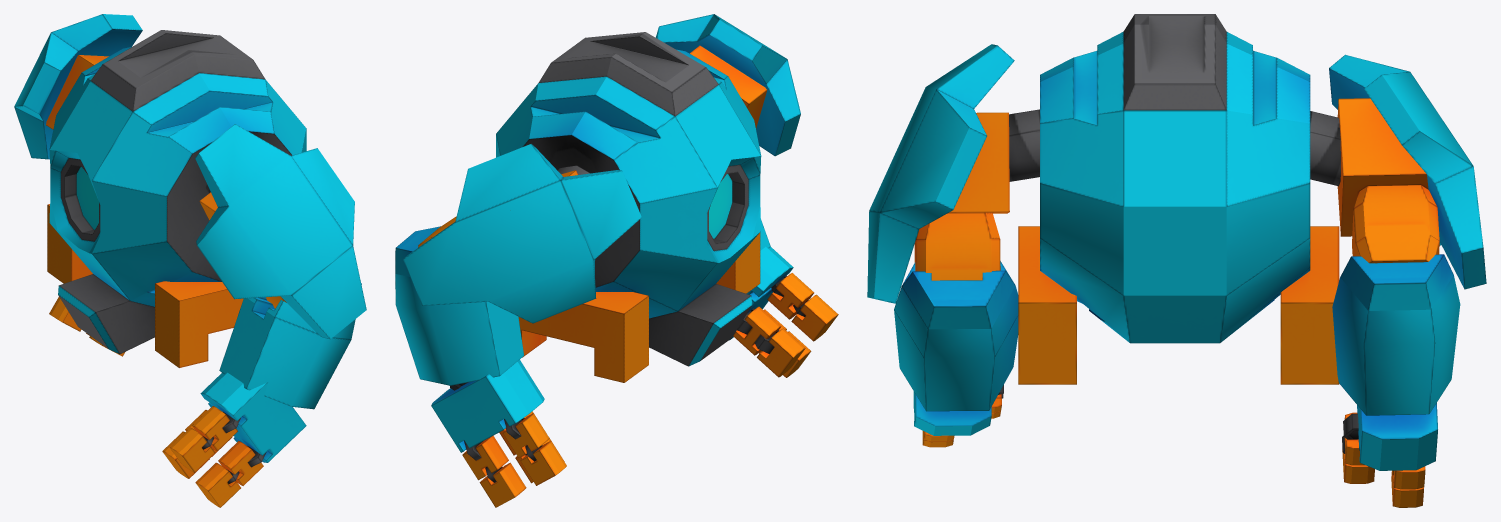
Rendered from Body_Idle1.obj.
3 renders of one model, left to right at view 1: azimuth 30°, elevation 25°; view 2: azimuth 150°, elevation 25°; view 3: azimuth 270°, elevation 25°, orthographic. The views are drawn at different scales.
Visible parts, largest first — view 1: Plane001, Object006, Object008, Object007, Object002, Object004; view 2: Plane001, Object002, Object004, Object003, Object006, Object008; view 3: Plane001, Object006, Object002, Object003, Object007, Object004, Object008, Object001, Object005.
Boxes of the visible parts, x1,y1,x2,y2 form: Plane001: (47, 30, 306, 367); Object006: (195, 124, 366, 339); Object008: (162, 372, 306, 507); Object007: (219, 283, 361, 409); Object002: (14, 14, 142, 159); Object004: (49, 297, 124, 356); Plane001: (496, 32, 761, 382); Object002: (403, 144, 641, 323); Object004: (431, 360, 566, 507); Object003: (395, 226, 524, 385); Object006: (655, 14, 800, 156); Object008: (729, 247, 838, 377); Plane001: (1018, 14, 1339, 384); Object006: (867, 44, 1014, 303); Object002: (1329, 54, 1486, 289); Object003: (1332, 254, 1460, 415); Object007: (894, 261, 1018, 411); Object004: (1342, 403, 1437, 507); Object008: (913, 385, 1003, 447); Object001: (1310, 111, 1340, 186); Object005: (1009, 109, 1039, 181).
Bounding box in the file's own units: 96.02 × 151 × 182.
